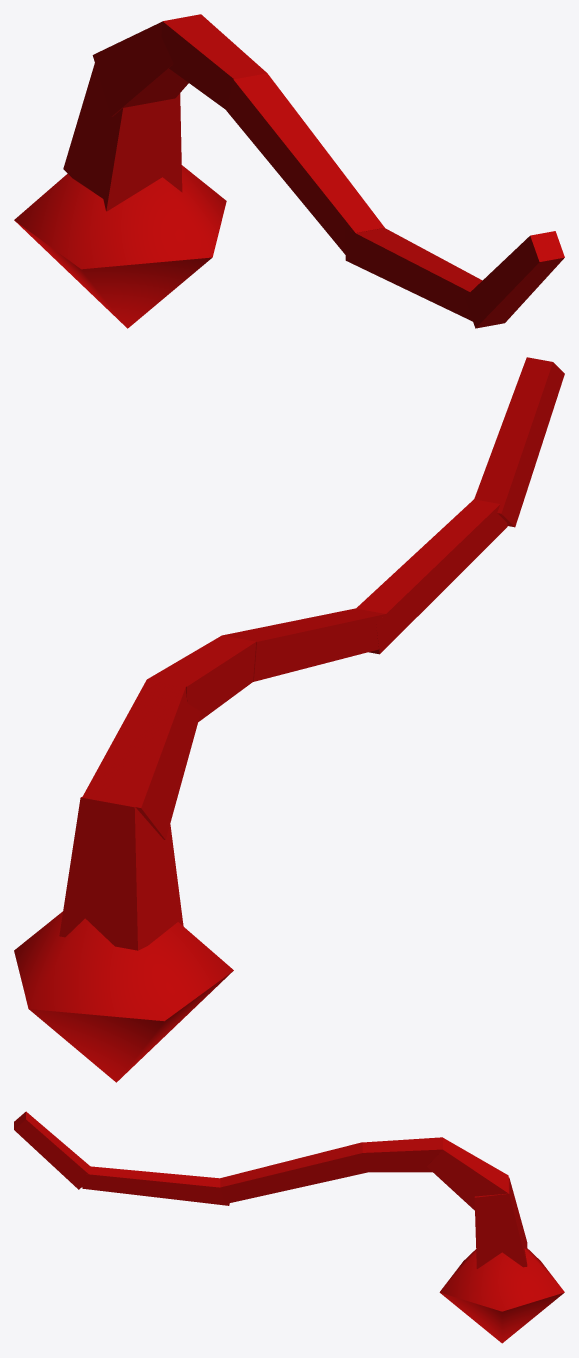
Rendered from SM_Env_Tree_Palm_02_Collision.gltf.
3 renders of one model, top to bottom at view 1: azimuth 30°, elevation 25°; view 2: azimuth 150°, elevation 25°; view 3: azimuth 270°, elevation 25°, orthographic. The views are drawn at different scales.
Visible parts, largest first — view 1: SM_Env_Tree_Palm_02_Collision; view 2: SM_Env_Tree_Palm_02_Collision; view 3: SM_Env_Tree_Palm_02_Collision.
Boxes of the visible parts, <box> form: SM_Env_Tree_Palm_02_Collision: <box>14,14,564,328</box>; SM_Env_Tree_Palm_02_Collision: <box>14,357,564,1082</box>; SM_Env_Tree_Palm_02_Collision: <box>14,1111,564,1343</box>.
Size of the model in its own units: 1.16 by 2.45 by 5.34.
